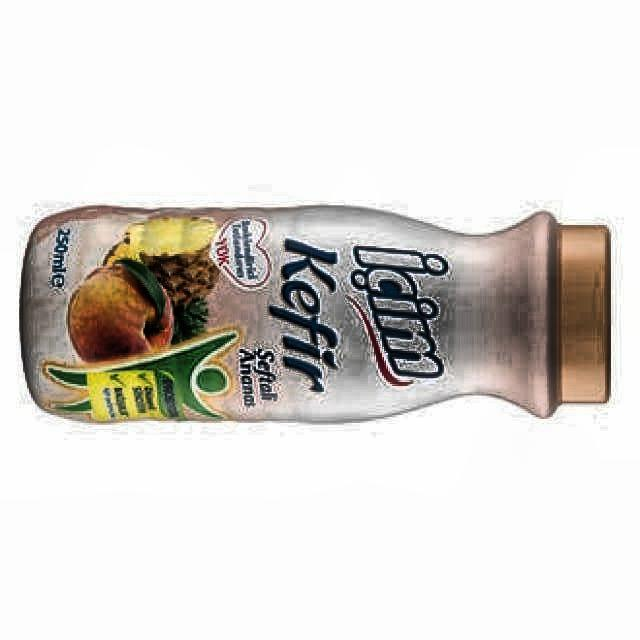plastic: (21, 206, 609, 421)
